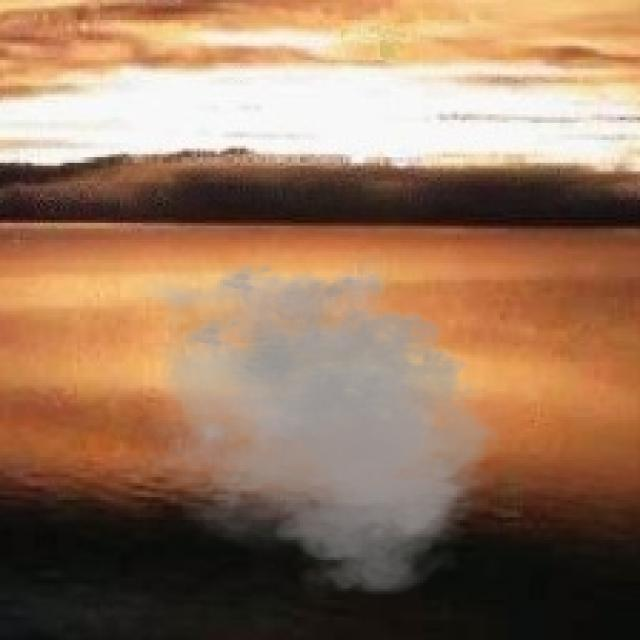Smoke: (126, 245, 514, 606)
